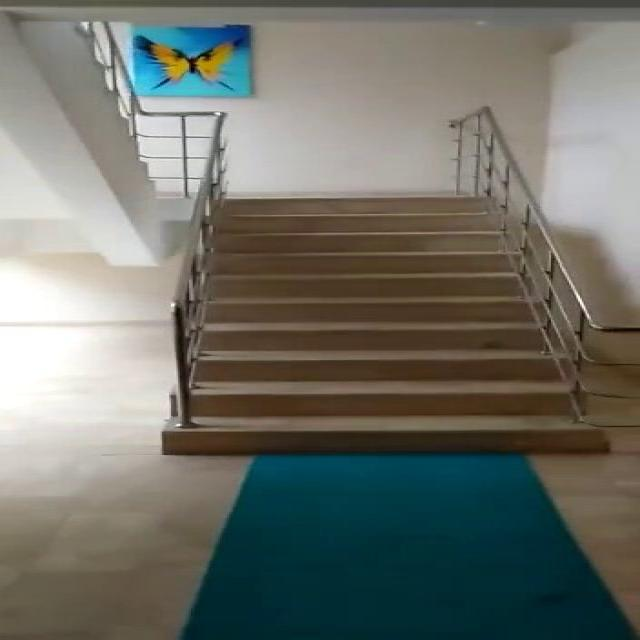stair: (165, 192, 605, 454)
